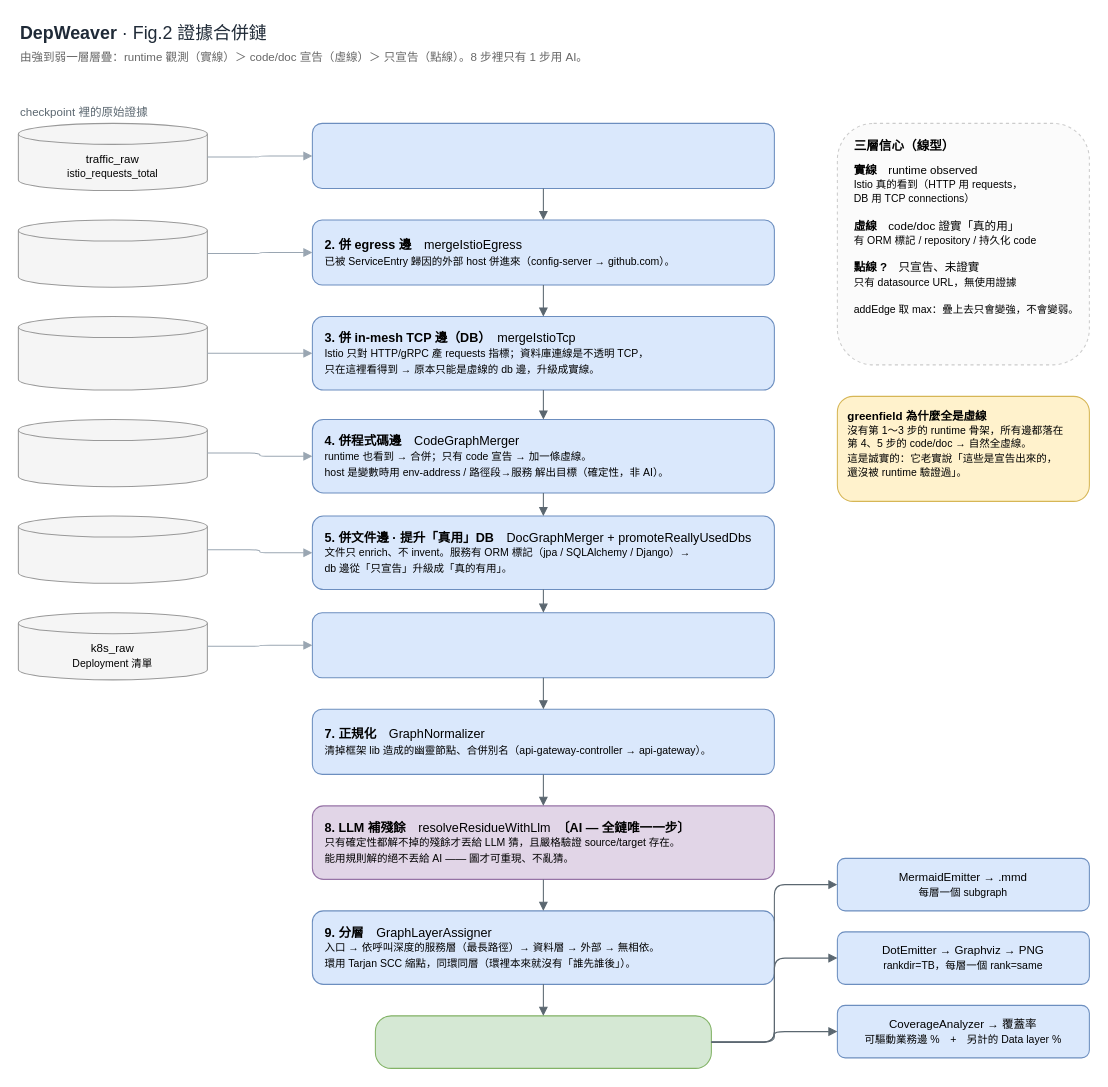
Image size: 1108x1087. Some labels were removed from this diagram. Each missing label, with the centre of its shape:
1. runtime 骨架 fromIstioRequests 請求真的跨過去了 = 最強證據 → 實線。之後所有東西疊在這上面。: (x=542, y=155)
6. 標部署狀態 K8sGraphBuilder.enrich 宣告了、叢集其實沒在跑 → 灰底紅框虛線 (not deployed)。: (x=542, y=645)
code_edges tree-sitter EdgeLedger: (x=112, y=452)
DependencyGraph （canonical model）: (x=542, y=1041)
egress_raw 離開 mesh 的呼叫: (x=112, y=253)
merged_notes DeepWiki 文件證據: (x=112, y=549)
tcp_raw istio_tcp_connections _opened_total: (x=112, y=353)
